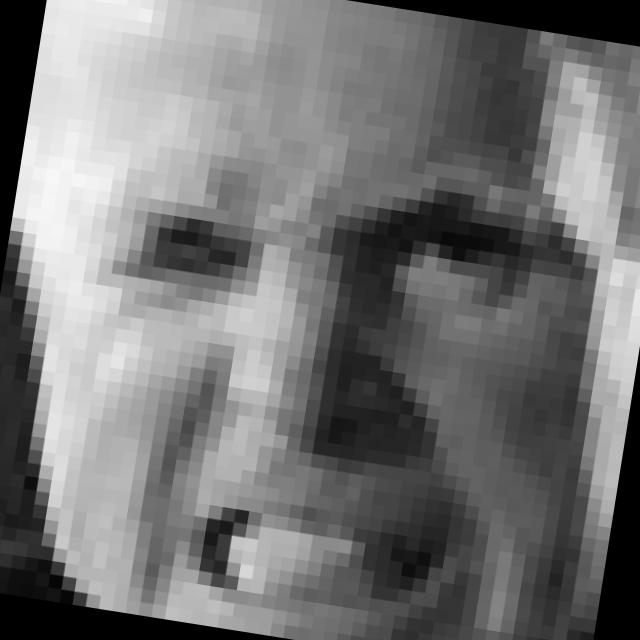angry: (46, 127, 543, 640)
